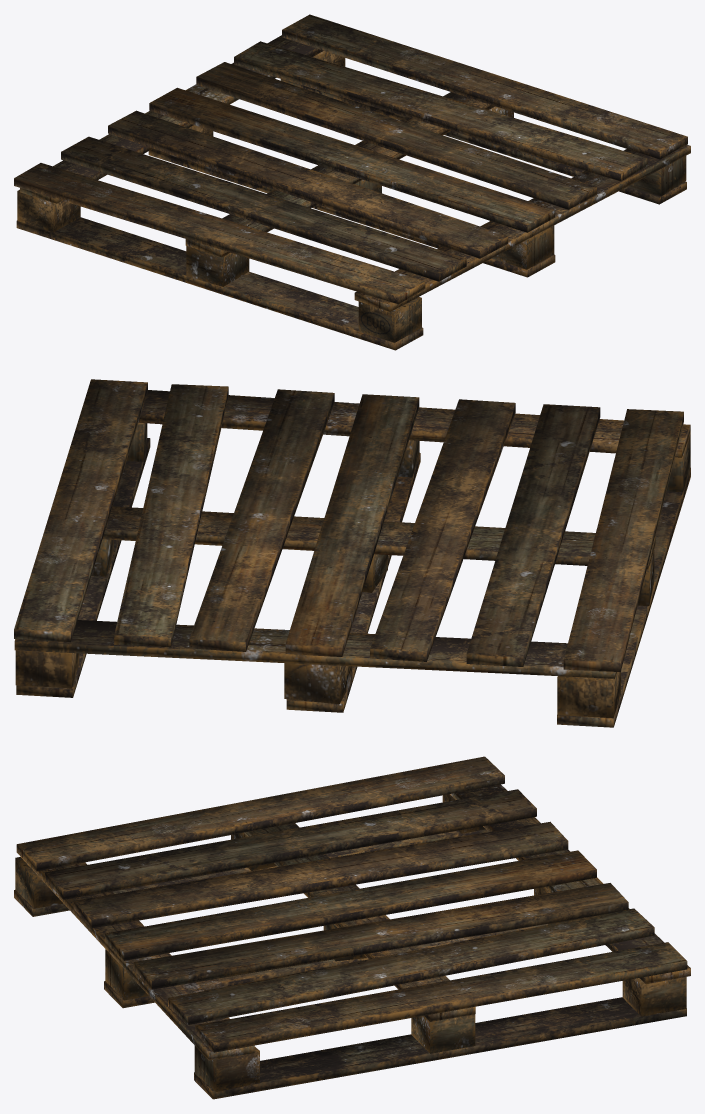
File: Wooden_pallet.glb
3 renders of one model, top to bottom at view 1: azimuth 30°, elevation 25°; view 2: azimuth 150°, elevation 25°; view 3: azimuth 270°, elevation 25°, orthographic. The views are drawn at different scales.
Visible parts, largest first — view 1: Pallet_Wood_0; view 2: Pallet_Wood_0; view 3: Pallet_Wood_0.
Part boxes in pixels (x1,y1,x2,y2): Pallet_Wood_0: [14, 14, 690, 350]; Pallet_Wood_0: [14, 379, 690, 727]; Pallet_Wood_0: [14, 756, 690, 1099].
Size of the model in its own units: 1.13 by 0.1023 by 1.12.
Materials: 1 (1 with a texture image).
